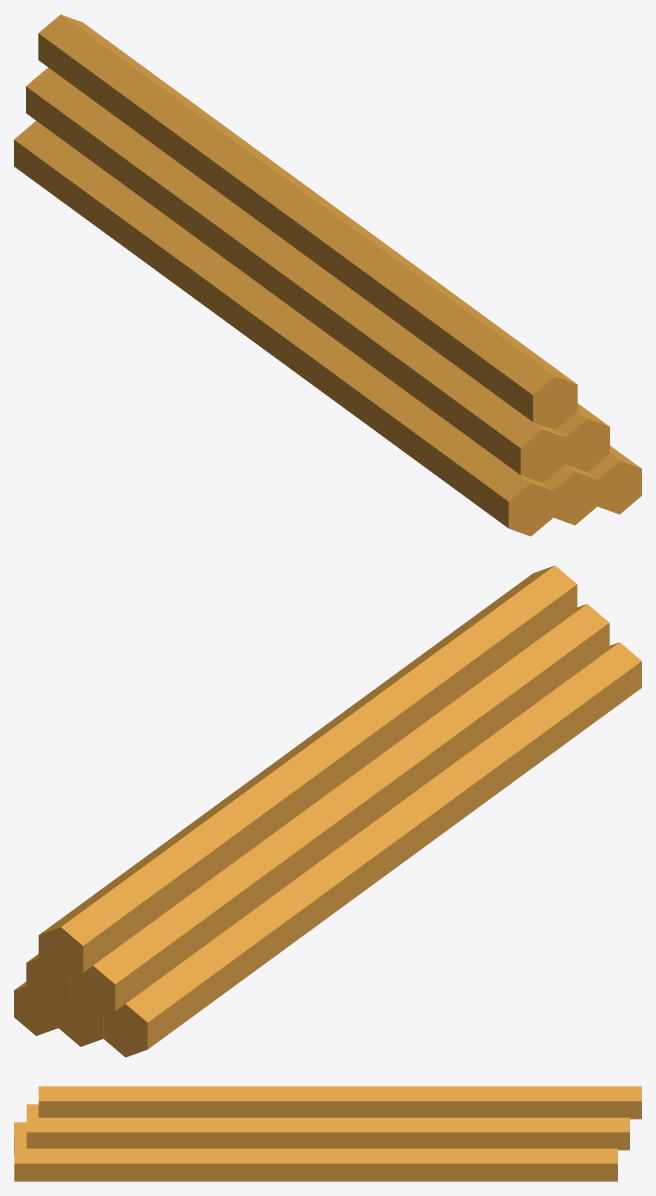
File: resources-steel-rod.glb
3 renders of one model, top to bottom at view 1: azimuth 30°, elevation 25°; view 2: azimuth 150°, elevation 25°; view 3: azimuth 270°, elevation 25°, orthographic. The views are drawn at different scales.
Parts seen in each view (by area): view 1: steel-rod; view 2: steel-rod; view 3: steel-rod.
Boxes of the visible parts, bbox=[...] form: steel-rod: bbox=[14, 14, 641, 536]; steel-rod: bbox=[14, 565, 641, 1057]; steel-rod: bbox=[14, 1086, 641, 1181].
Bounding box in the file's own units: 0.1559 × 0.15 × 1.04.
